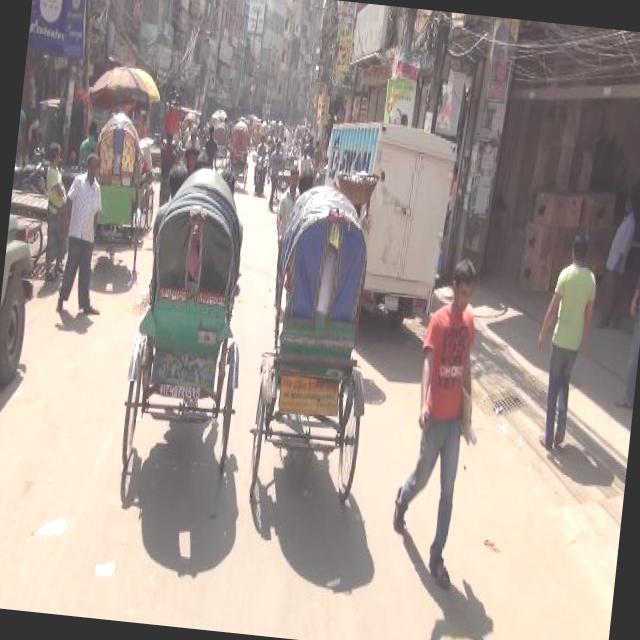motorcycle: (114, 150, 261, 483), (242, 178, 387, 514), (81, 107, 153, 276), (222, 116, 254, 190), (246, 132, 272, 196)
truck: (306, 117, 452, 319)
